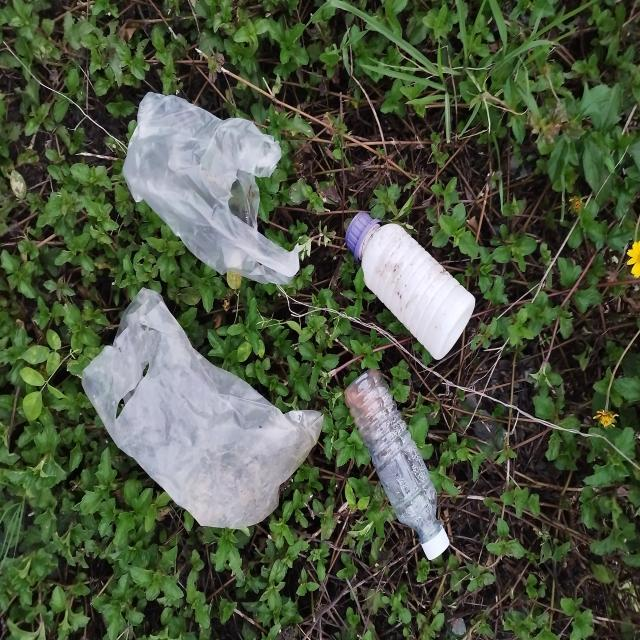bag: (83, 288, 324, 531), (123, 92, 301, 278)
bottle: (343, 368, 449, 560), (345, 210, 475, 361)
